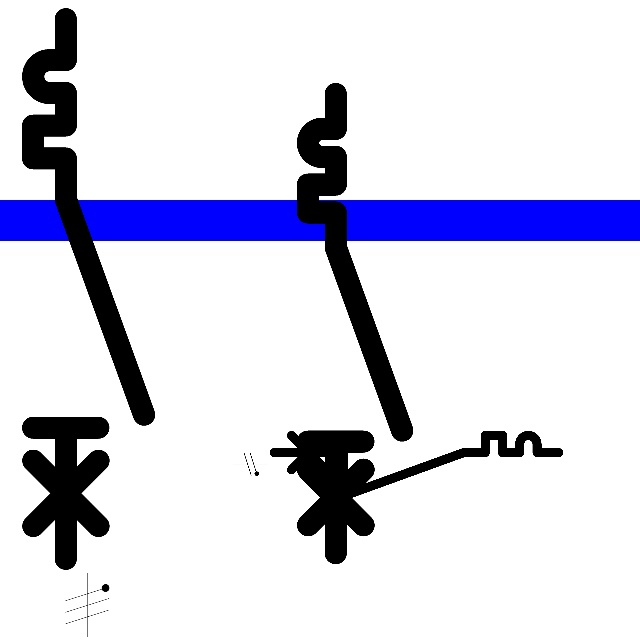interruptor_termomagnetico: (19, 5, 158, 573), (296, 82, 414, 565), (266, 428, 565, 501)
